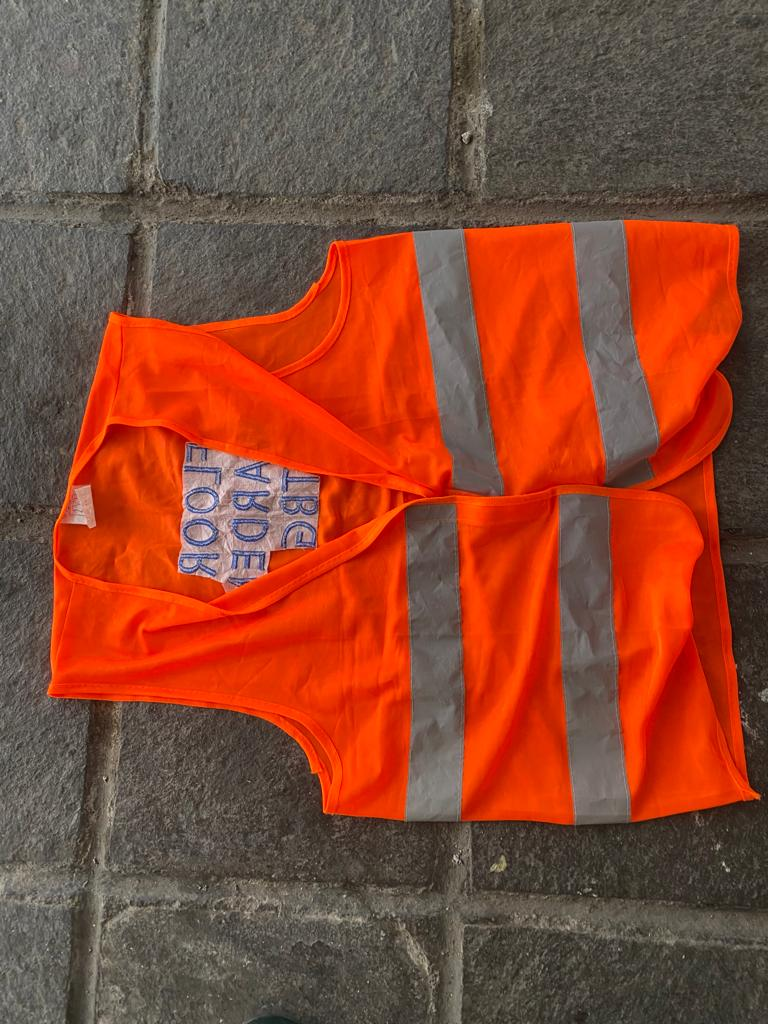ROMPI: (156, 277, 728, 762)
